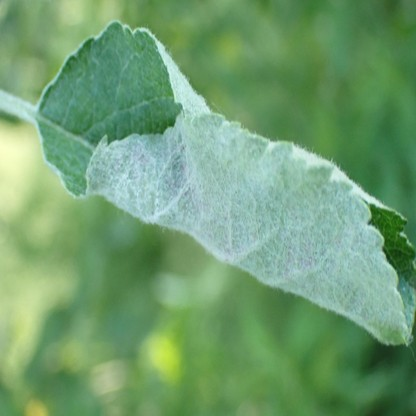powdery_mildew: (36, 19, 416, 345)
